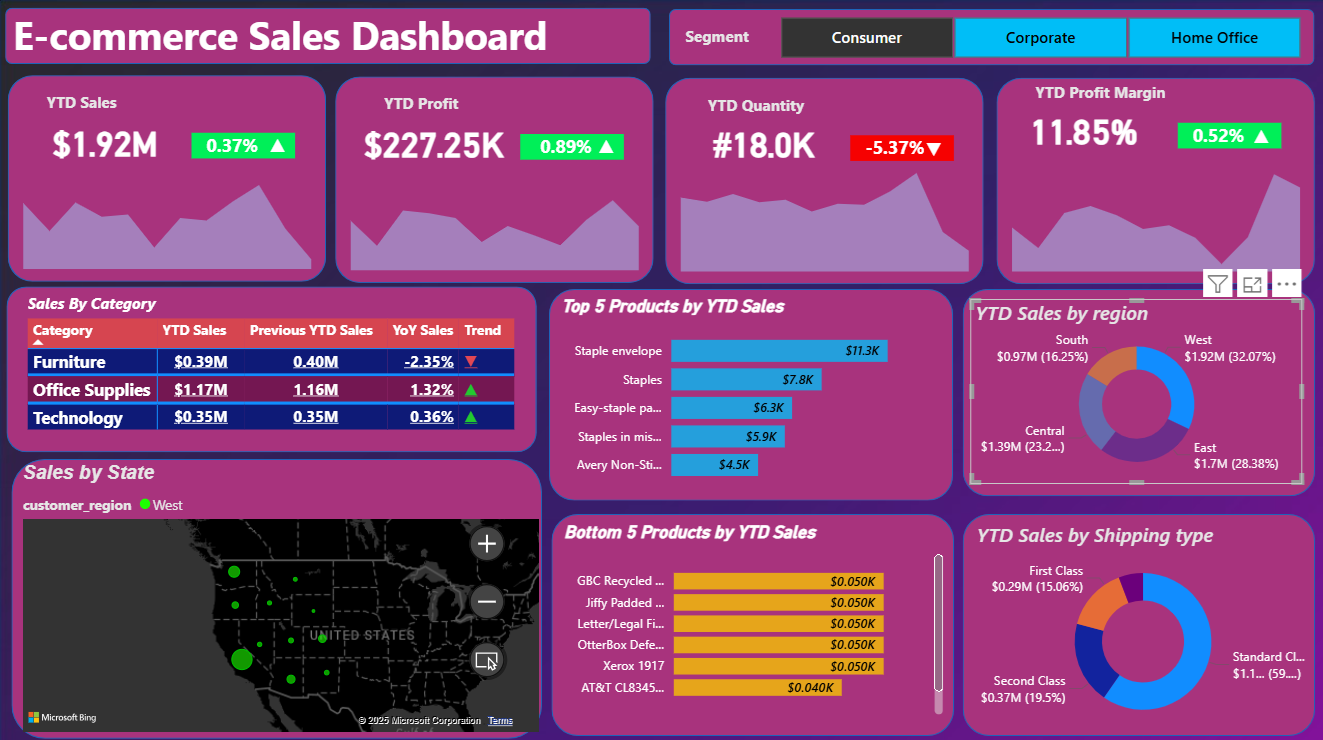

This screenshot's page, from the dashboard's own definition file:
{"tool":"powerbi","page":{"name":"Page 1","canvas":[1280,720],"ordinal":0},"visuals":[{"type":"shape","box":[5.7,8.6,622.9,54.3],"z":0},{"type":"textbox","box":[7.9,4.6,556.4,69.2],"z":1000},{"type":"shape","box":[7.9,73.8,307.3,199.3],"z":2000},{"type":"card","fields":{"Values":["ecommerce_data.YTD Sales"]},"box":[25.9,100.9,154.3,72.9],"z":3000},{"type":"areaChart","fields":{"Category":["Calender.Month"],"Y":["Sum(ecommerce_data.sales_per_order)","select"]},"box":[8,151.3,308.3,115],"z":4000},{"type":"shape","box":[186.3,129.7,100,25],"z":5000},{"type":"card","fields":{"Values":["ecommerce_data.YoY Sales"]},"box":[176.3,126.3,98.3,33.3],"z":6000},{"type":"card","fields":{"Values":["ecommerce_data.Sales Icon"]},"box":[249.7,126.3,38.3,33.3],"z":7000},{"type":"textbox","box":[41.3,84.7,93.3,36.7],"z":8000},{"type":"shape","box":[325,75,307.3,199.3],"z":9000},{"type":"card","fields":{"Values":["ecommerce_data.YTD Profit"]},"box":[342.9,102,154.3,72.9],"z":10000},{"type":"areaChart","fields":{"Category":["Calender.Month"],"Y":["select","Sum(ecommerce_data.profit_per_order)"]},"box":[325.1,152.5,308.3,115],"z":11000},{"type":"shape","box":[503.4,130.9,100,25],"z":12000},{"type":"card","fields":{"Values":["ecommerce_data.YoY Profit"]},"box":[498.1,127.9,98.3,33.3],"z":13000},{"type":"card","fields":{"Values":["ecommerce_data.Profit Icon"]},"box":[566.8,127.5,38.3,33.3],"z":14000},{"type":"textbox","box":[366.4,86.2,93.3,36.7],"z":15000},{"type":"shape","box":[643,76,307.3,199.3],"z":16000},{"type":"card","fields":{"Values":["ecommerce_data.YTD Concat Qty"]},"box":[660.9,103,154.3,72.9],"z":17000},{"type":"areaChart","fields":{"Category":["Calender.Month"],"Y":["select","Sum(ecommerce_data.order_quantity)"]},"box":[643.1,153.5,308.3,115],"z":18000},{"type":"shape","box":[821.4,131.9,100,25],"z":19000},{"type":"card","fields":{"Values":["ecommerce_data.YoY Qty"]},"box":[815.8,128.4,98.6,34.3],"z":20000},{"type":"card","fields":{"Values":["ecommerce_data.Qty Icon"]},"box":[882.9,129.8,38.6,32.9],"z":21000},{"type":"textbox","box":[678.7,86.9,130,37.1],"z":22000},{"type":"shape","box":[963,76,307.3,199.3],"z":23000},{"type":"card","fields":{"Values":["ecommerce_data.YTD Profit Margin"]},"box":[970,89,154,73],"z":24000},{"type":"areaChart","fields":{"Category":["Calender.Month"],"Y":["select","ecommerce_data.Profit Margin"]},"box":[963.1,153.5,308.3,115],"z":25000},{"type":"shape","box":[1137.4,119.9,100,25],"z":26000},{"type":"card","fields":{"Values":["ecommerce_data.YoY Profit Margin"]},"box":[1127.5,116,98.2,35.5],"z":27000},{"type":"card","fields":{"Values":["ecommerce_data.PM Icon"]},"box":[1198.9,117.8,38.6,32.9],"z":28000},{"type":"textbox","box":[995,75,162,37],"z":29000},{"type":"shape","box":[7.7,278,511.7,160],"z":30000},{"type":"pivotTable","title":"Sales By Category","fields":{"Values":["ecommerce_data.YTD Sales","ecommerce_data.Previous YTD Sales","ecommerce_data.YoY Sales","ecommerce_data.Sales Icon"],"Rows":["ecommerce_data.category_name"]},"box":[22.7,284,480,153.3],"z":31000},{"type":"shape","box":[12,444,512,270],"z":32000},{"type":"map","title":"   Sales by State","fields":{"X":["us_state_long_lat_codes.longitude"],"Y":["us_state_long_lat_codes.latitude"],"Size":["ecommerce_data.YTD Sales"],"Series":["ecommerce_data.customer_region"]},"box":[17.5,446.2,507.5,266.2],"z":33000},{"type":"shape","box":[531.4,280,390,204.3],"z":34000},{"type":"shape","box":[532.9,497.1,388.6,214.3],"z":35000},{"type":"barChart","title":"Top 5 Products by YTD Sales","fields":{"Category":["ecommerce_data.product_name"],"Y":["ecommerce_data.YTD Sales"]},"box":[538.6,285.7,375.7,191.4],"z":36000},{"type":"barChart","title":"Bottom 5 Products by YTD Sales","fields":{"Category":["ecommerce_data.product_name"],"Y":["ecommerce_data.YTD Sales"]},"box":[540,504.3,375.7,191.4],"z":37000},{"type":"shape","box":[930,280,340,200],"z":38000},{"type":"shape","box":[930,497.1,340,214.3],"z":39000},{"type":"donutChart","title":"YTD Sales by region","fields":{"Category":["ecommerce_data.customer_region"],"Y":["ecommerce_data.YTD Sales"]},"box":[937.1,290,321.4,178.6],"z":40000},{"type":"donutChart","title":"YTD Sales by Shipping type","fields":{"Category":["ecommerce_data.shipping_type"],"Y":["ecommerce_data.YTD Sales"]},"box":[938.6,504.3,331.4,207.1],"z":41000},{"type":"shape","box":[647.1,10,622.9,54.3],"z":42000},{"type":"slicer","fields":{"Values":["ecommerce_data.customer_segment"]},"box":[728.6,11.4,551.4,52.9],"z":43000},{"type":"textbox","box":[657.1,20,87.1,37.1],"z":44000}]}

Visuals, with their boxes in screenshot pixels (x1, y1, x2, y2), scaled from the page's 1280x720 canvas onto the 1323x740 screenshot:
shape: bbox=(6, 9, 650, 65)
textbox: bbox=(8, 5, 583, 76)
shape: bbox=(8, 76, 326, 281)
card - ecommerce_data.YTD Sales: bbox=(27, 104, 186, 179)
areaChart - Calender.Month x Sum(ecommerce_data.sales_per_order): bbox=(8, 156, 327, 274)
shape: bbox=(193, 133, 296, 159)
card - ecommerce_data.YoY Sales: bbox=(182, 130, 284, 164)
card - ecommerce_data.Sales Icon: bbox=(258, 130, 298, 164)
textbox: bbox=(43, 87, 139, 125)
shape: bbox=(336, 77, 654, 282)
card - ecommerce_data.YTD Profit: bbox=(354, 105, 514, 180)
areaChart - Calender.Month x select: bbox=(336, 157, 655, 275)
shape: bbox=(520, 135, 624, 160)
card - ecommerce_data.YoY Profit: bbox=(515, 131, 616, 166)
card - ecommerce_data.Profit Icon: bbox=(586, 131, 625, 165)
textbox: bbox=(379, 89, 475, 126)
shape: bbox=(665, 78, 982, 283)
card - ecommerce_data.YTD Concat Qty: bbox=(683, 106, 843, 181)
areaChart - Calender.Month x select: bbox=(665, 158, 983, 276)
shape: bbox=(849, 136, 952, 161)
card - ecommerce_data.YoY Qty: bbox=(843, 132, 945, 167)
card - ecommerce_data.Qty Icon: bbox=(913, 133, 952, 167)
textbox: bbox=(702, 89, 836, 127)
shape: bbox=(995, 78, 1313, 283)
card - ecommerce_data.YTD Profit Margin: bbox=(1003, 91, 1162, 166)
areaChart - Calender.Month x select: bbox=(995, 158, 1314, 276)
shape: bbox=(1176, 123, 1279, 149)
card - ecommerce_data.YoY Profit Margin: bbox=(1165, 119, 1267, 156)
card - ecommerce_data.PM Icon: bbox=(1239, 121, 1279, 155)
textbox: bbox=(1028, 77, 1196, 115)
shape: bbox=(8, 286, 537, 450)
"Sales By Category" pivotTable: bbox=(23, 292, 520, 449)
shape: bbox=(12, 456, 542, 734)
"   Sales by State" map: bbox=(18, 459, 543, 732)
shape: bbox=(549, 288, 952, 498)
shape: bbox=(551, 511, 952, 731)
"Top 5 Products by YTD Sales" barChart: bbox=(557, 294, 945, 490)
"Bottom 5 Products by YTD Sales" barChart: bbox=(558, 518, 946, 715)
shape: bbox=(961, 288, 1313, 493)
shape: bbox=(961, 511, 1313, 731)
"YTD Sales by region" donutChart: bbox=(969, 298, 1301, 482)
"YTD Sales by Shipping type" donutChart: bbox=(970, 518, 1313, 731)
shape: bbox=(669, 10, 1313, 66)
slicer - ecommerce_data.customer_segment: bbox=(753, 12, 1322, 66)
textbox: bbox=(679, 21, 769, 59)
